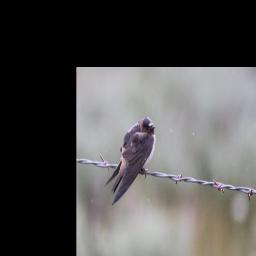Swallow: (103, 115, 157, 207)
